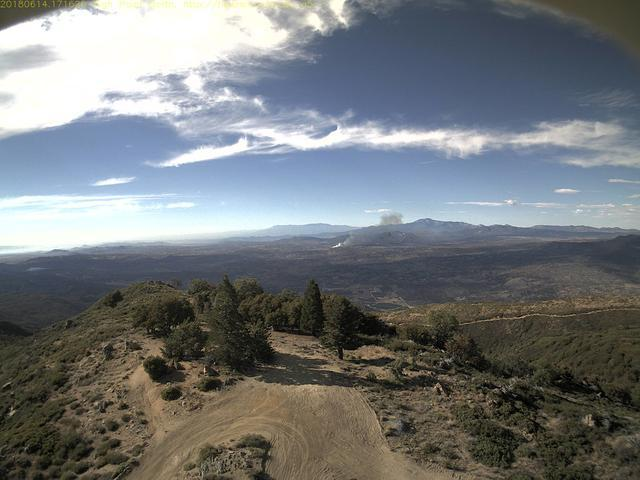smoke: (326, 208, 407, 252)
